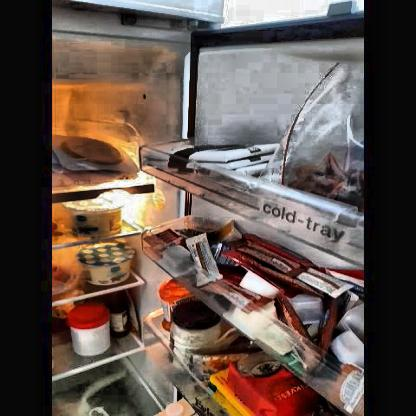butter: (204, 373, 256, 415)
chocolate: (154, 141, 272, 176)
dates: (296, 143, 363, 198)
salami: (58, 134, 128, 168)
yoghurt: (65, 200, 127, 236), (79, 242, 137, 278)
